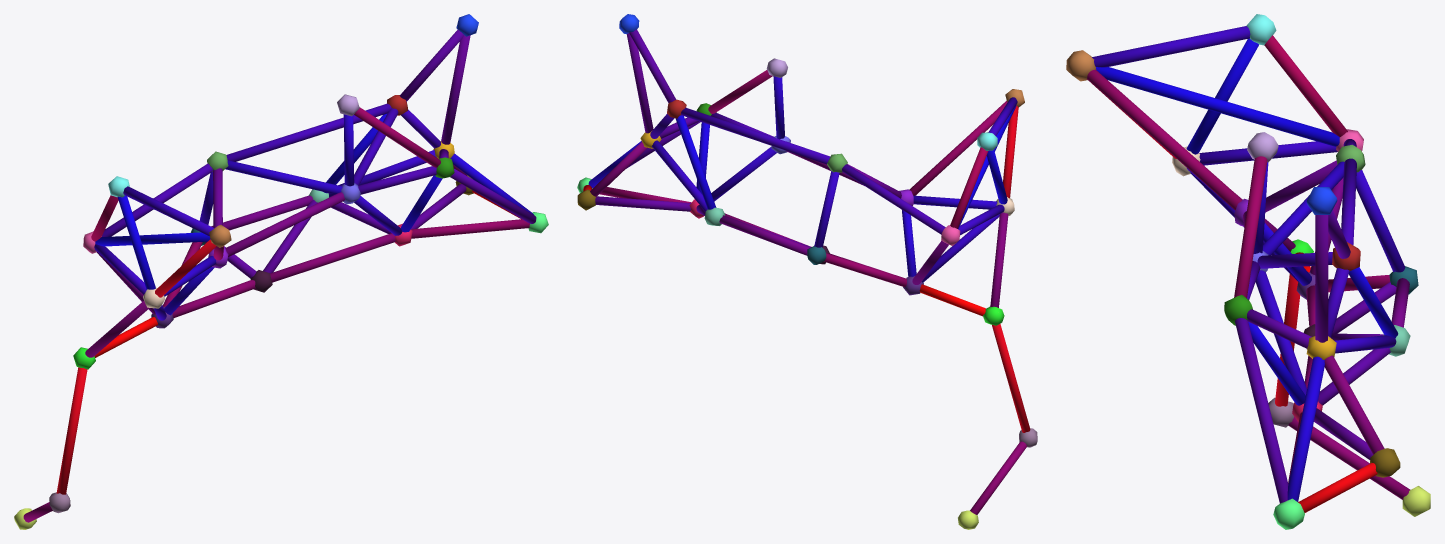
The model's file is fg-00012-skel.obj.
The picture shows the model from 3 angles, left to right: view 1: azimuth 30°, elevation 25°; view 2: azimuth 150°, elevation 25°; view 3: azimuth 270°, elevation 25°; orthographic projection. The views are drawn at different scales.
Bounding box in the file's own units: 0.2428 × 0.2044 × 0.1126.
Materials: 1 (1 with a texture image).
